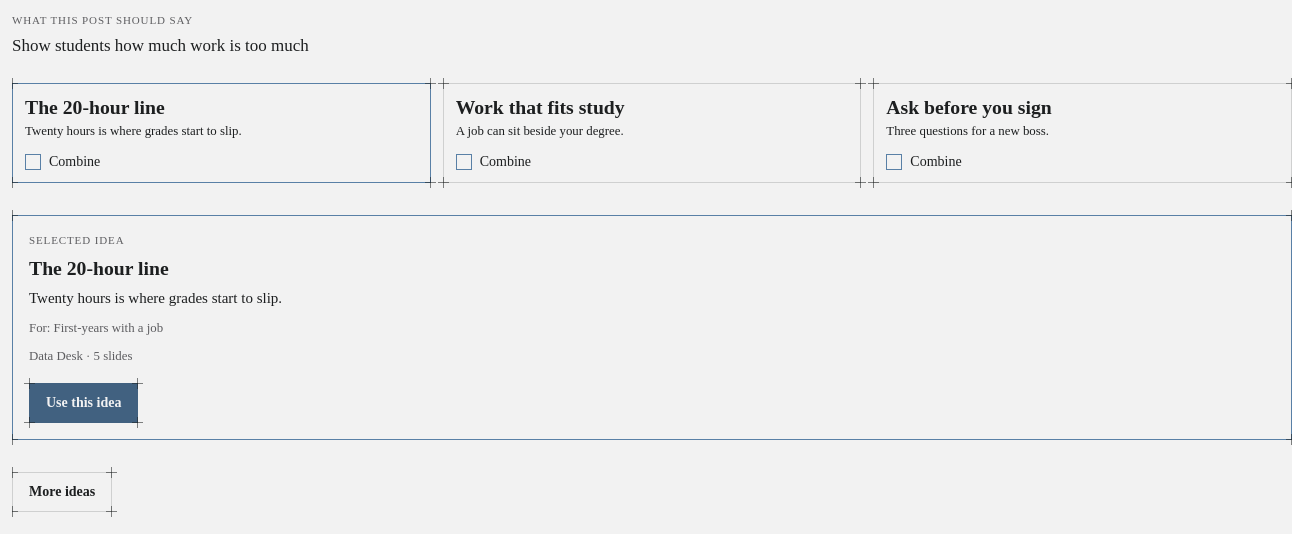
Scenario: shows the details of the card selected, marking it (D1)
Step 1. Click the button "Work that fits study" → point(540, 107), box x1=456 y1=96 x2=625 y2=118
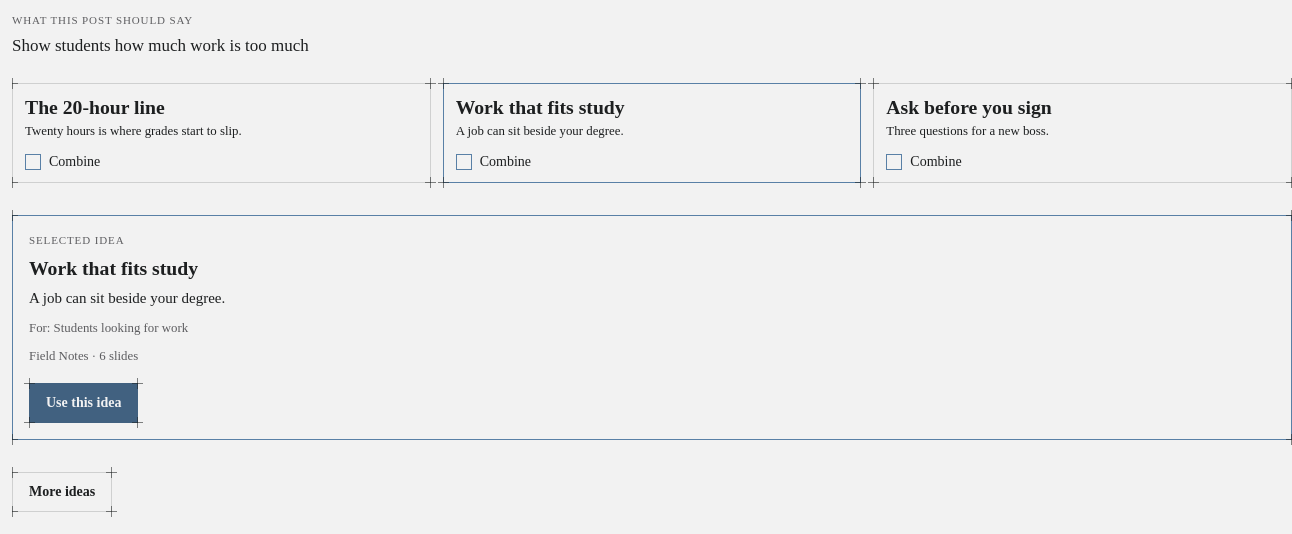
Expected: the text "For: Students looking for work" is shown, x1=29 y1=321 x2=188 y2=335
Expected: the text "Field Notes · 6 slides" is shown, x1=29 y1=349 x2=138 y2=363
Expected: the text "For: First-years with a job" is gone
